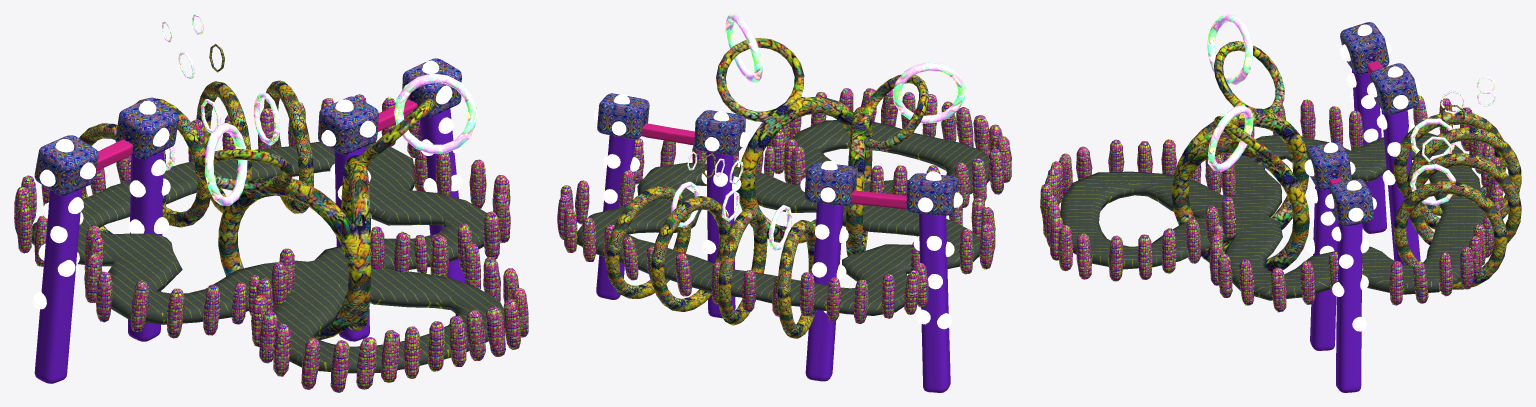
File: racetrack.glb
3 views of the same model, side by side, from view 1: azimuth 30°, elevation 25°; view 2: azimuth 150°, elevation 25°; view 3: azimuth 270°, elevation 25° (orthographic). The views are drawn at different scales.
Parts seen in each view (by area): view 1: Retopo_inst_5, MAIN ROAD, RINGS, Retopo_inst_19, Retopo_inst_18, Retopo_inst_13, Retopo_inst_16, Retopo_inst_12, RING, RING.002, Retopo_inst_15, RING.003 (+6 smaller); view 2: Retopo_inst_5, MAIN ROAD, RINGS, Retopo_inst_19, Retopo_inst_12, Retopo_inst_18, Retopo_inst_13, RING.001, RING, RING.003, Retopo_inst_16, RetopRINGo_inst_4.003 (+7 smaller); view 3: MAIN ROAD, Retopo_inst_5, RINGS, Retopo_inst_12, Retopo_inst_19, RING, Retopo_inst_18, Retopo_inst_13, RING.001, RING.003, Retopo_inst_15, RetopRINGo_inst_4.003 (+5 smaller).
Part boxes in pixels (x1,y1,x2,y2): Retopo_inst_5: (14, 94, 528, 392); MAIN ROAD: (31, 141, 503, 373); RINGS: (194, 99, 434, 340); Retopo_inst_19: (34, 151, 163, 383); Retopo_inst_18: (34, 98, 178, 195); Retopo_inst_13: (318, 58, 461, 154); Retopo_inst_16: (32, 100, 170, 309); Retopo_inst_12: (334, 108, 465, 341); RING: (264, 80, 313, 213); RING.002: (394, 73, 476, 153); Retopo_inst_15: (321, 60, 462, 219); RING.003: (130, 97, 211, 227); Retopo_inst_5: (557, 88, 1011, 323); MAIN ROAD: (577, 120, 989, 315); RINGS: (716, 38, 928, 256); Retopo_inst_19: (805, 203, 950, 392); Retopo_inst_12: (596, 135, 735, 318); Retopo_inst_18: (804, 162, 957, 215); Retopo_inst_13: (597, 93, 745, 155); RING.001: (651, 196, 731, 311); RING: (606, 186, 691, 298); RING.003: (717, 207, 767, 325); Retopo_inst_16: (800, 161, 962, 329); RetopRINGo_inst_4.003: (777, 220, 816, 338); MAIN ROAD: (1060, 132, 1486, 300); Retopo_inst_5: (1040, 95, 1503, 312); RINGS: (1171, 41, 1309, 271); Retopo_inst_12: (1310, 186, 1362, 392); Retopo_inst_19: (1352, 69, 1420, 264); RING: (1393, 181, 1507, 289); Retopo_inst_18: (1340, 22, 1418, 114); Retopo_inst_13: (1307, 141, 1374, 226); RING.001: (1407, 153, 1521, 252); RING.003: (1407, 127, 1521, 229); Retopo_inst_15: (1304, 142, 1376, 331); RetopRINGo_inst_4.003: (1393, 111, 1506, 216).
Bounding box in the file's own units: 32.12 × 21.37 × 36.85.
Materials: 8 (4 with a texture image).
